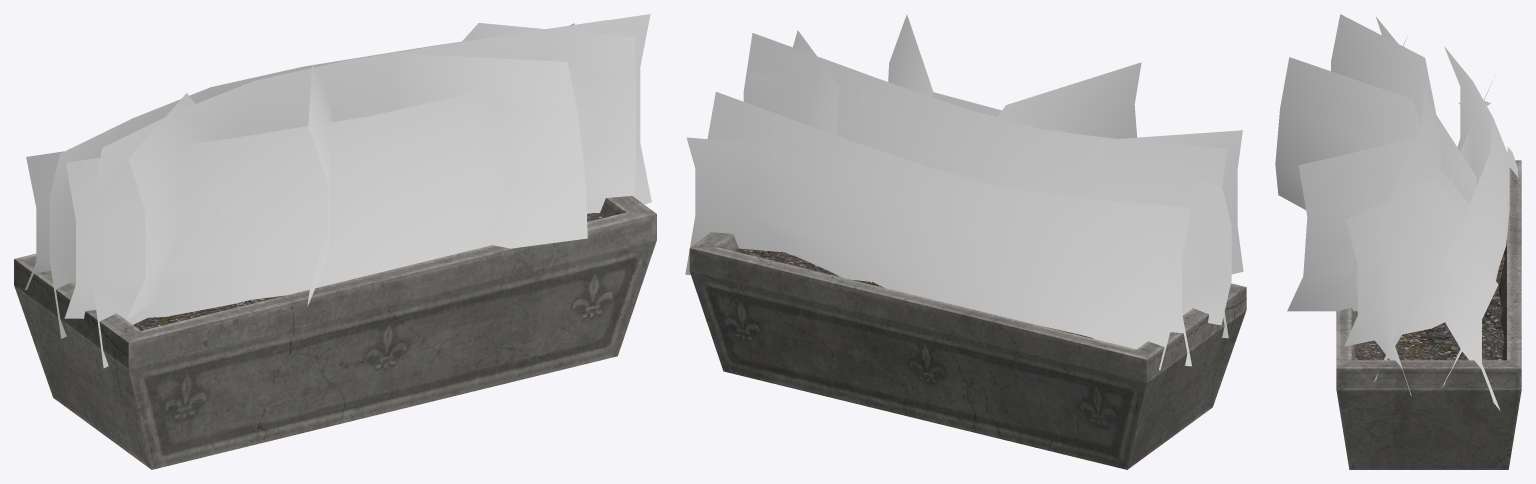
Rendered from Flower_Pot_07.fbx.
The picture shows the model from 3 angles, left to right: view 1: azimuth 30°, elevation 25°; view 2: azimuth 150°, elevation 25°; view 3: azimuth 270°, elevation 25°; orthographic projection. The views are drawn at different scales.
Visible parts, largest first — view 1: Flower_Pot_07; view 2: Flower_Pot_07; view 3: Flower_Pot_07.
Boxes of the visible parts, x1,y1,x2,y2 form: Flower_Pot_07: (14,14,656,469); Flower_Pot_07: (685,14,1246,469); Flower_Pot_07: (1275,14,1521,469).
Bounding box in the file's own units: 89.9 × 52.12 × 42.11.
